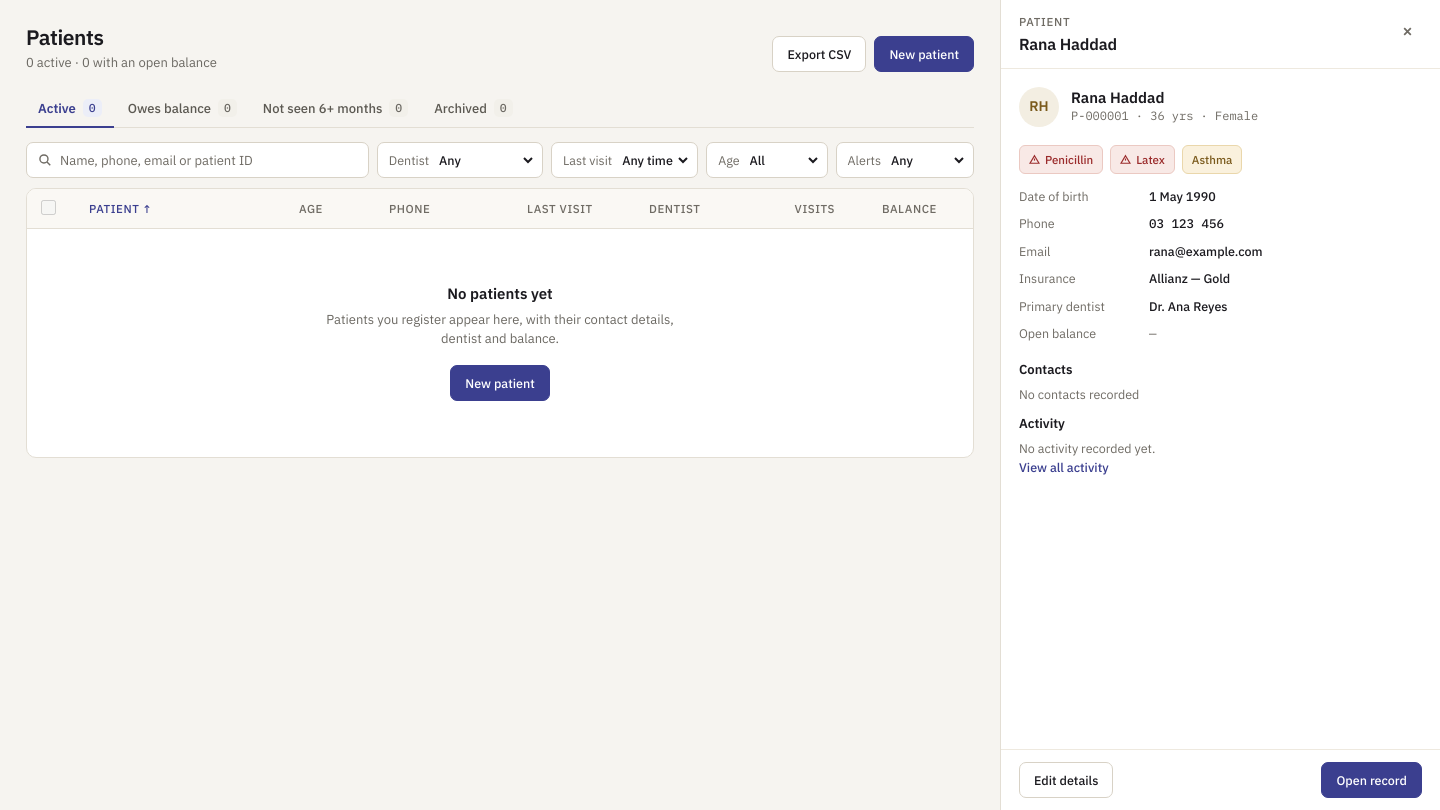
Test: QuickViewPanel › opens the edit panel from Edit details
This screenshot has width=1440, height=810.
Click the button "Edit details" at (1066, 780), box [1019,762,1113,798]
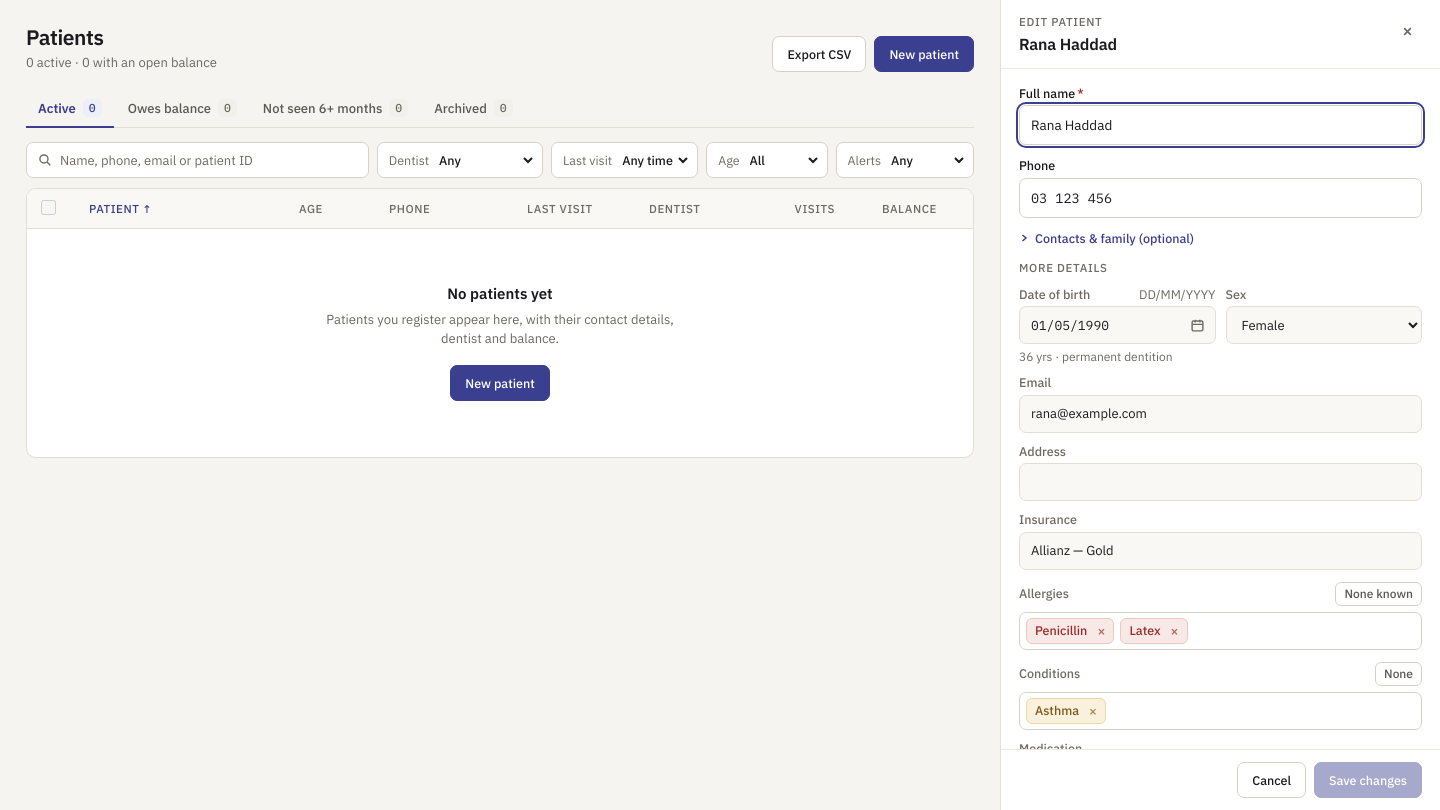
Expected: the element "Rana Haddad" is shown, [1000,0,1439,809]
Result: the button "Save changes" is shown at [1314,762,1422,798]
